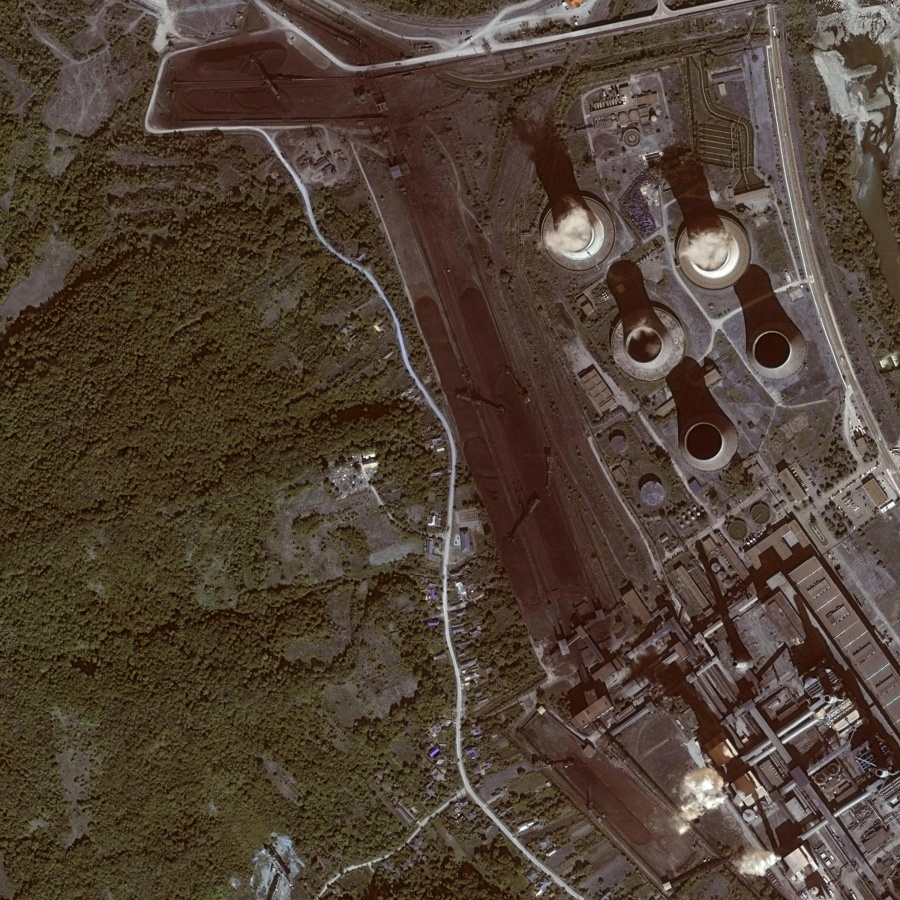PowerPlant: (379, 73, 819, 616)
